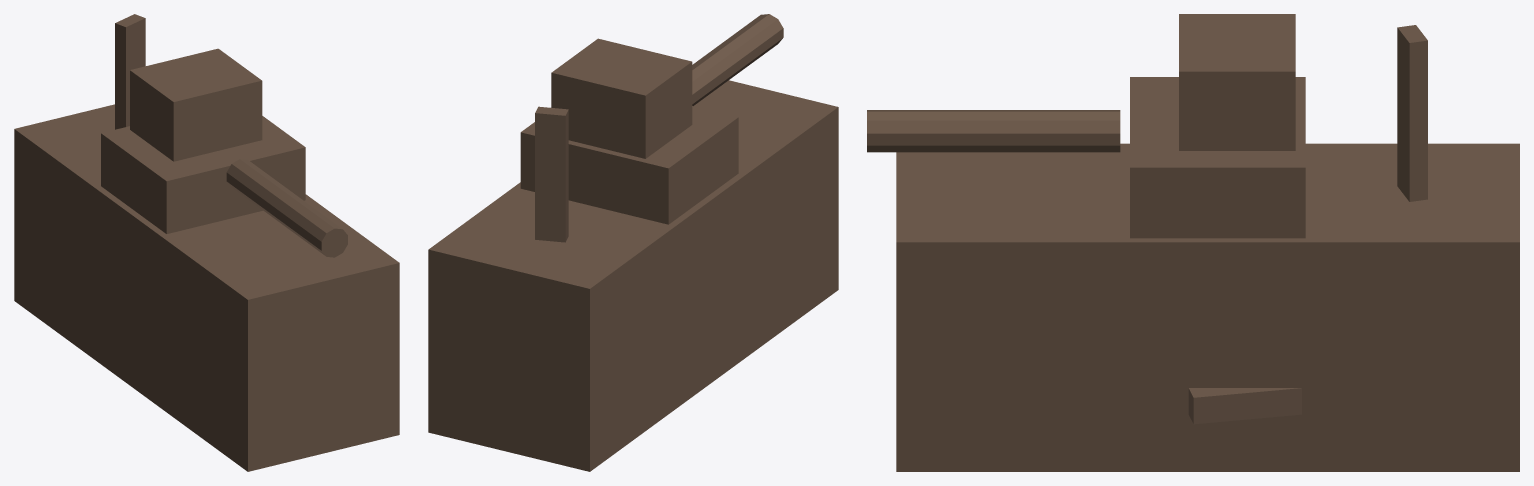
Rendered from MSC_Wreck.fbx.
3 renders of one model, left to right at view 1: azimuth 30°, elevation 25°; view 2: azimuth 150°, elevation 25°; view 3: azimuth 270°, elevation 25°, orthographic. The views are drawn at different scales.
Parts seen in each view (by area): view 1: MSC_Wreck__COL_Hull, MSC_Wreck__BODY; view 2: MSC_Wreck__COL_Hull, MSC_Wreck__BODY; view 3: MSC_Wreck__COL_Hull, MSC_Wreck__BODY.
Boxes of the visible parts, bbox=[...] form: MSC_Wreck__COL_Hull: bbox=[14, 104, 399, 471]; MSC_Wreck__BODY: bbox=[101, 14, 347, 257]; MSC_Wreck__COL_Hull: bbox=[428, 80, 838, 471]; MSC_Wreck__BODY: bbox=[520, 14, 783, 242]; MSC_Wreck__COL_Hull: bbox=[896, 143, 1519, 471]; MSC_Wreck__BODY: bbox=[867, 14, 1427, 424].
Size of the model in its own units: 2.64 by 4.4 by 6.7.
